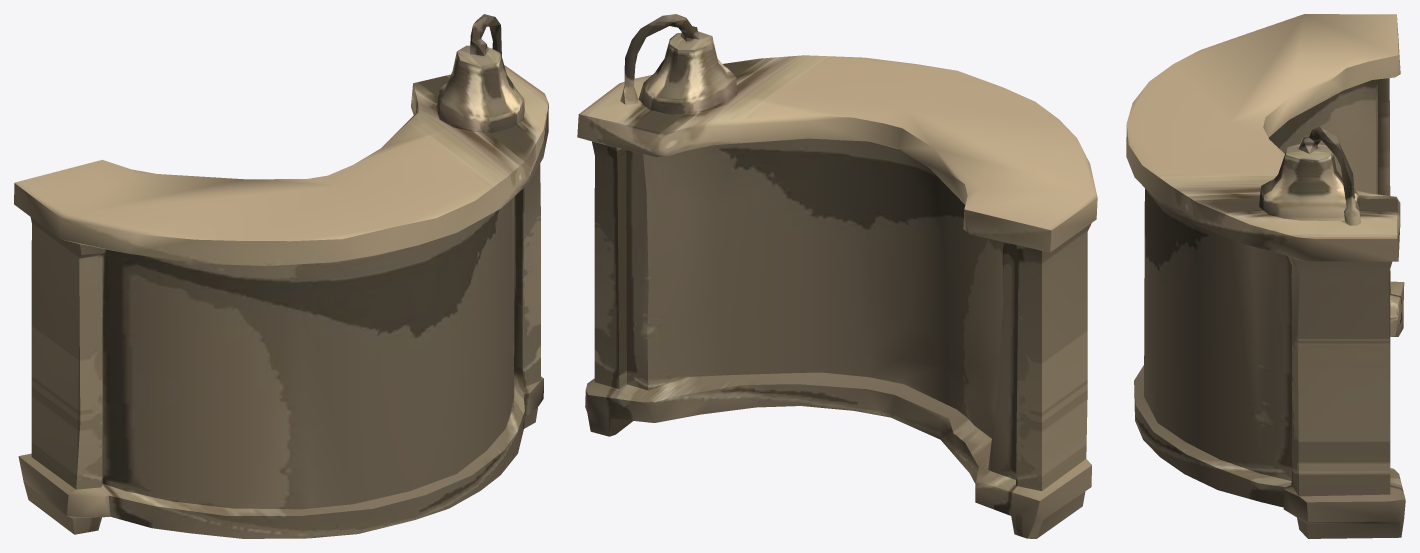
3 views of the same model, side by side, from view 1: azimuth 30°, elevation 25°; view 2: azimuth 150°, elevation 25°; view 3: azimuth 270°, elevation 25° (orthographic). The views are drawn at different scales.
Visible parts, largest first — view 1: Decor_info_desk_c; view 2: Decor_info_desk_c; view 3: Decor_info_desk_c.
Part boxes in pixels (<box>): Decor_info_desk_c: <box>14,14,548,538</box>; Decor_info_desk_c: <box>577,14,1097,538</box>; Decor_info_desk_c: <box>1126,14,1405,538</box>.
Size of the model in its own units: 1.36 by 1.1 by 0.7119.
1 material, 1 textured.
